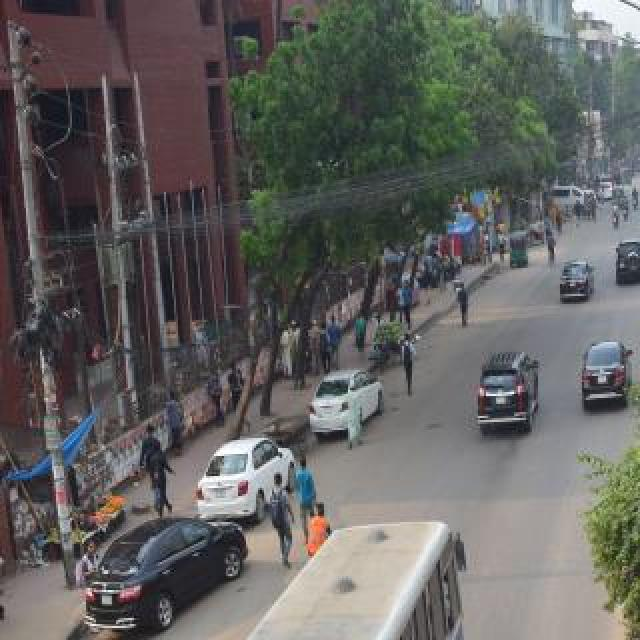bus: (84, 444, 536, 640)
car: (73, 511, 255, 621), (176, 424, 334, 514), (462, 330, 564, 468), (298, 348, 392, 458), (576, 312, 640, 432), (538, 237, 600, 307), (600, 224, 640, 294), (548, 186, 594, 228), (599, 174, 623, 216)
motorbike: (597, 193, 625, 235), (609, 186, 633, 224), (622, 178, 640, 216), (634, 166, 640, 200)
